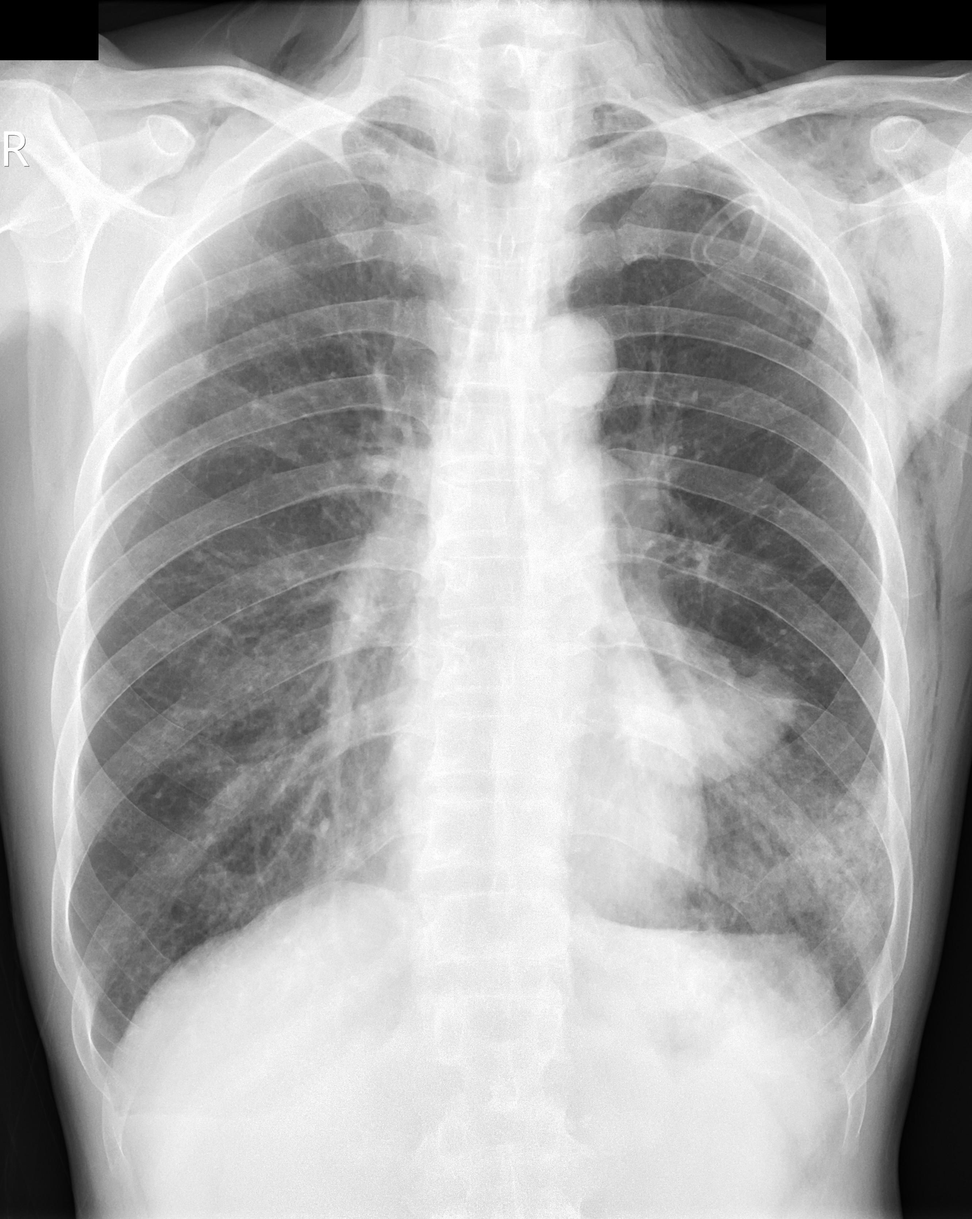Pulmonary fibrosis: (676, 639, 829, 765)
